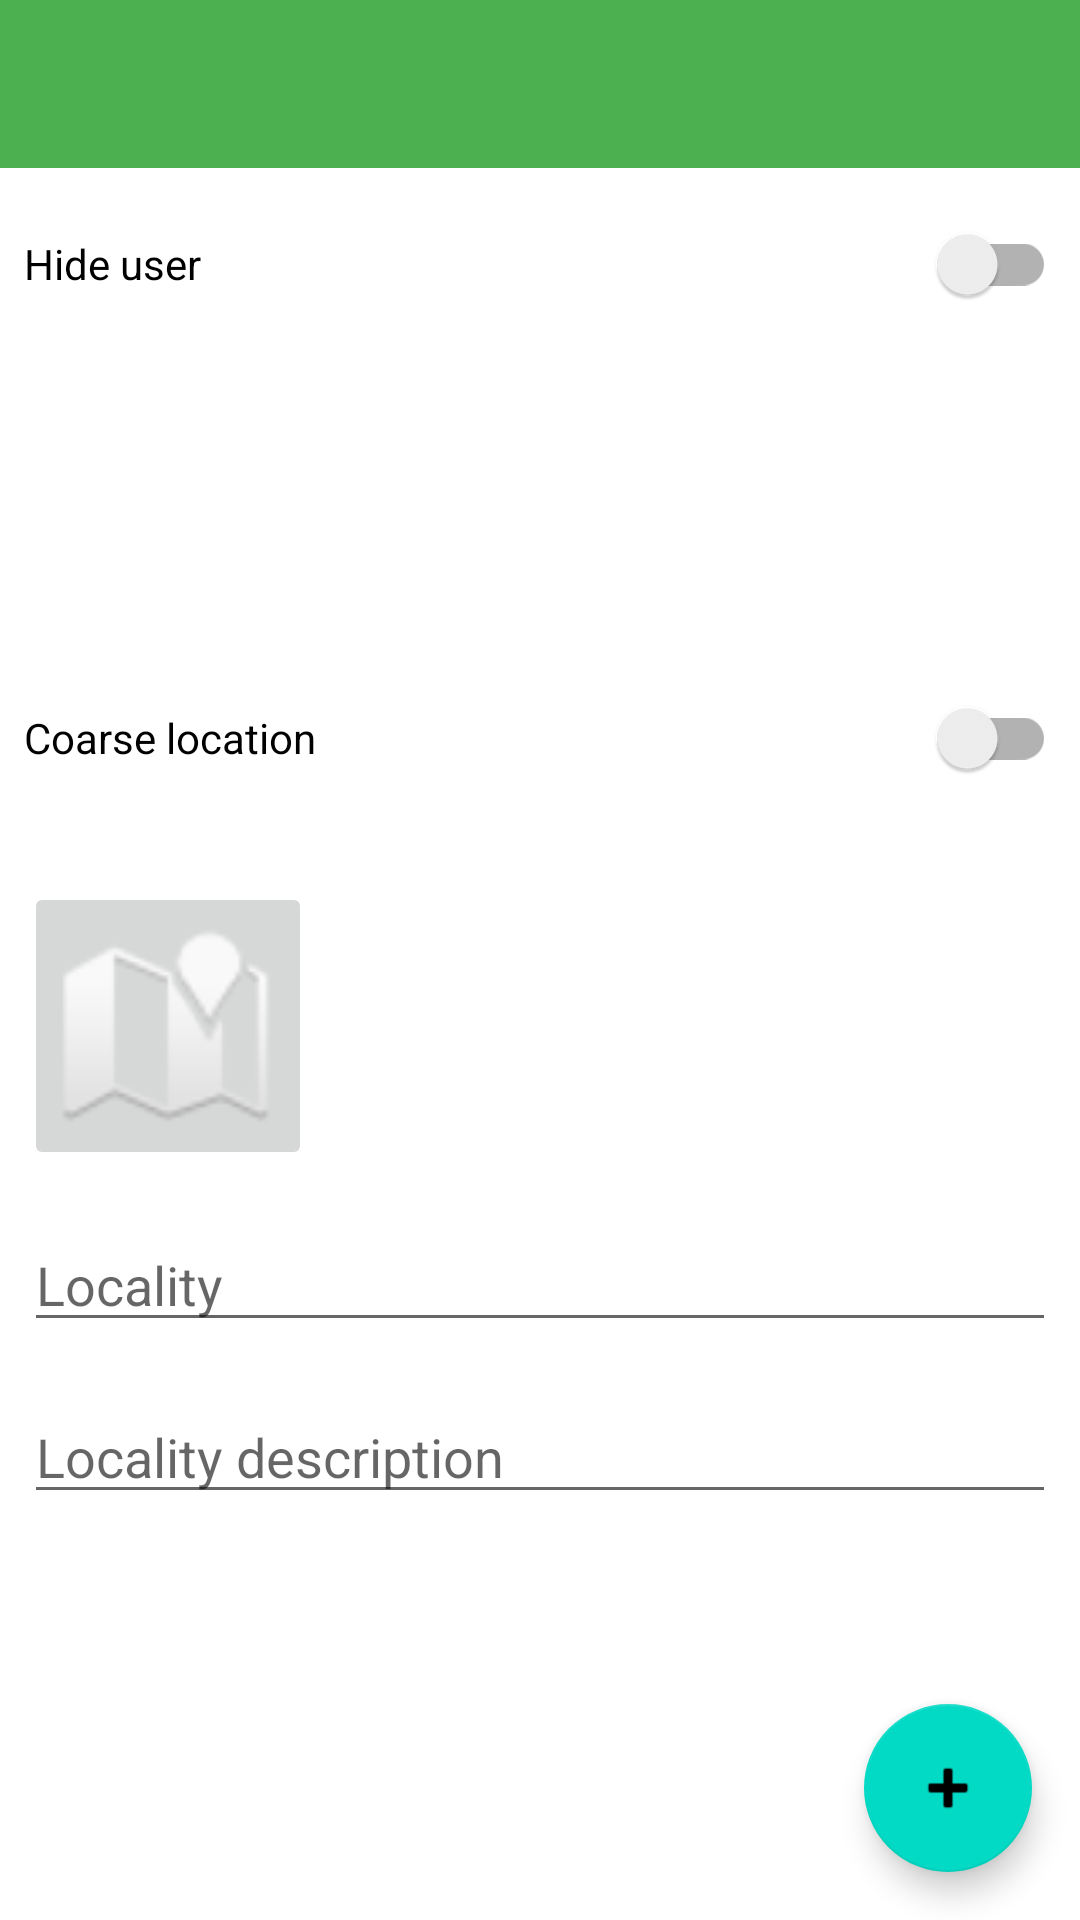

Locate icon controls on the screen. Image size 1080w x 1920h, boxes as (x1, y1, x2, y2).
add: (864, 1704, 1032, 1872)
map: (36, 900, 300, 1152)
